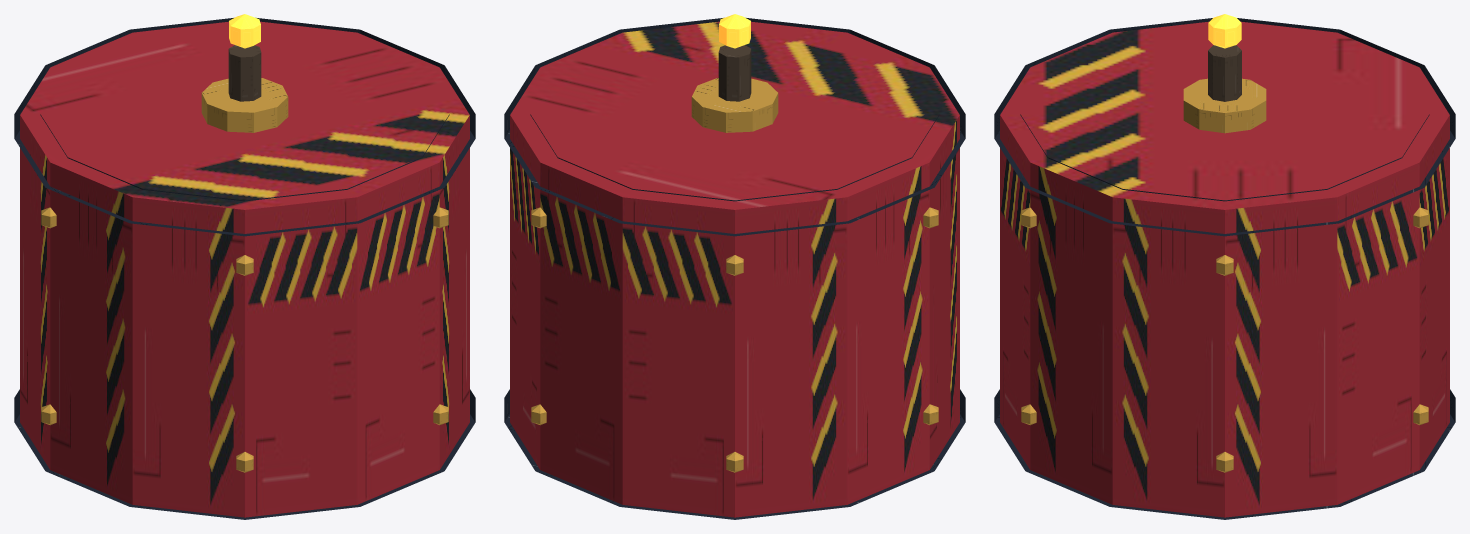
The model's file is nitro.glb.
3 views of the same model, side by side, from view 1: azimuth 30°, elevation 25°; view 2: azimuth 150°, elevation 25°; view 3: azimuth 270°, elevation 25° (orthographic).
Visible parts, largest first — view 1: body, fuse; view 2: body, fuse; view 3: body, fuse.
Boxes of the visible parts, box(x1,y1,x2,y2) form: body: box(14, 18, 475, 519); fuse: box(228, 14, 261, 101); body: box(504, 18, 965, 519); fuse: box(718, 14, 751, 101); body: box(994, 18, 1455, 519); fuse: box(1208, 14, 1241, 101).
Bounding box in the file's own units: 0.4431 × 0.425 × 0.4346.
Materials: 5 (5 with a texture image).
